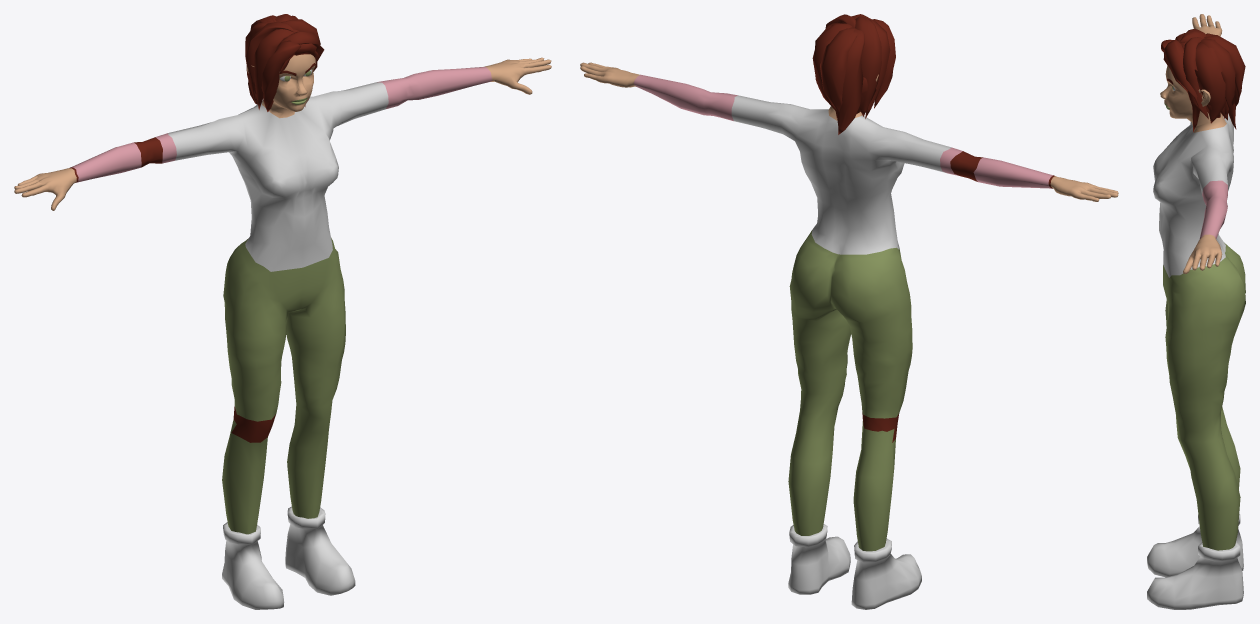
File: MULHER_FREE_4.fbx
3 views of the same model, side by side, from view 1: azimuth 30°, elevation 25°; view 2: azimuth 150°, elevation 25°; view 3: azimuth 270°, elevation 25° (orthographic). The views are drawn at different scales.
Parts seen in each view (by area): view 1: Mesh.002; view 2: Mesh.002; view 3: Mesh.002.
Boxes of the visible parts, x1,y1,x2,y2 form: Mesh.002: (14,14,551,609); Mesh.002: (580,14,1118,609); Mesh.002: (1147,14,1245,609).
Size of the model in its own units: 180 by 182 by 29.57.
